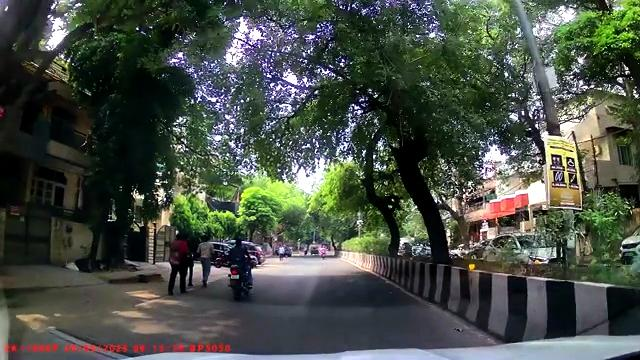motorcycle_without_helmet: (226, 235, 255, 301)
